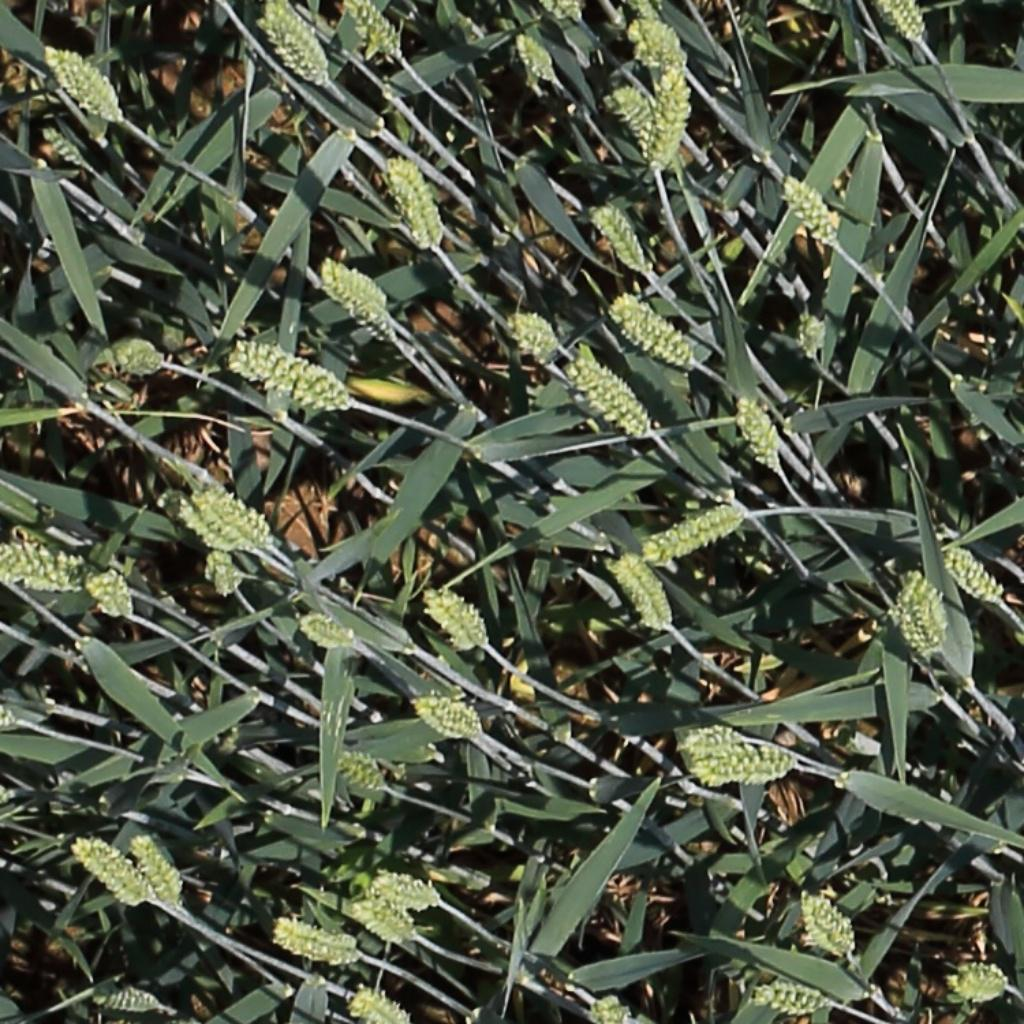0-0: (229, 339, 369, 413), (605, 290, 703, 368), (43, 43, 124, 124), (570, 364, 653, 438), (385, 152, 445, 251), (695, 740, 801, 792), (159, 489, 234, 562), (610, 551, 674, 636), (263, 4, 331, 83), (72, 841, 150, 909), (186, 483, 274, 542), (648, 507, 748, 558), (323, 274, 398, 341), (591, 199, 655, 277), (782, 170, 845, 247), (611, 81, 667, 166), (734, 387, 787, 476), (128, 832, 185, 913), (423, 587, 488, 653), (801, 890, 858, 958), (944, 544, 1006, 606), (0, 537, 94, 577), (271, 920, 361, 961), (630, 15, 688, 77), (346, 1, 406, 60), (322, 258, 390, 308), (81, 979, 178, 1013), (656, 61, 685, 170), (891, 580, 928, 665), (510, 27, 562, 87), (413, 697, 483, 740), (348, 898, 412, 942), (679, 716, 750, 755), (507, 312, 561, 359), (80, 568, 134, 614), (947, 961, 1016, 996), (38, 121, 88, 167), (102, 338, 164, 375), (368, 879, 443, 909), (886, 0, 931, 47), (755, 988, 831, 1014), (581, 988, 633, 1024), (299, 617, 359, 648), (915, 578, 945, 638), (337, 755, 386, 791), (208, 544, 238, 602), (800, 304, 828, 365), (350, 993, 405, 1022), (0, 693, 16, 727)
